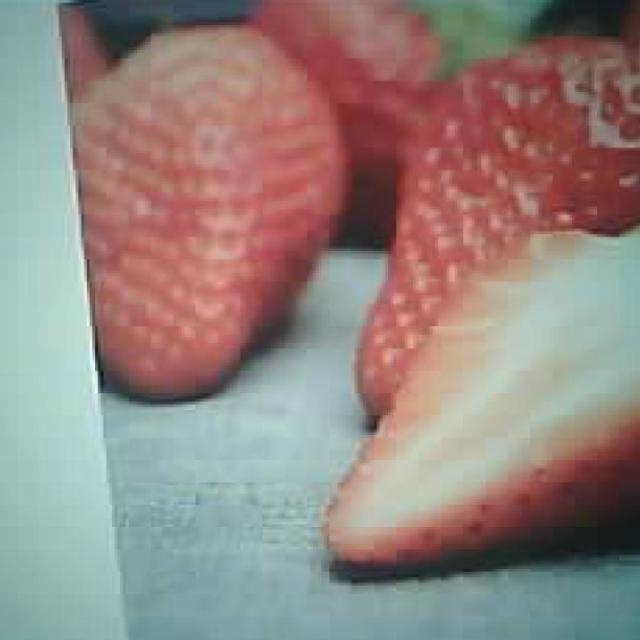Healthy Fruit: (353, 32, 638, 424), (71, 22, 351, 402)
